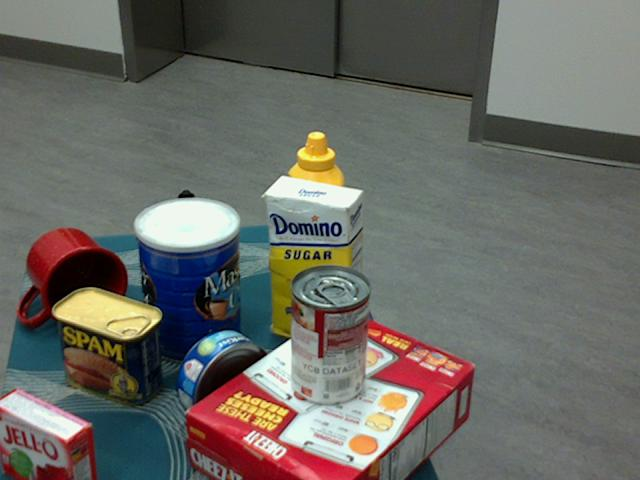cracker_box: (185, 308, 475, 479)
gelatin_box: (0, 385, 96, 479)
large_marker: (178, 189, 197, 287)
master_chef_can: (133, 198, 240, 365)
mug: (20, 227, 127, 327)
mustard_bottle: (285, 131, 341, 307)
potted_meat_can: (51, 286, 161, 404)
sugar_box: (265, 174, 362, 355)
tomato_soup_can: (288, 266, 370, 406)
tuna_fish_can: (176, 330, 270, 428)
